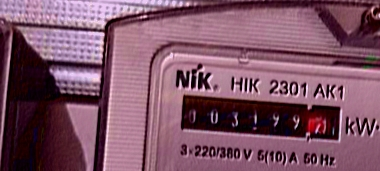0: (182, 103, 196, 122), (205, 104, 217, 123)
1: (247, 103, 257, 123)
3: (226, 107, 236, 126)
6: (310, 119, 320, 135)
9: (287, 110, 298, 129), (267, 107, 277, 125)
screen: (171, 84, 345, 150)
